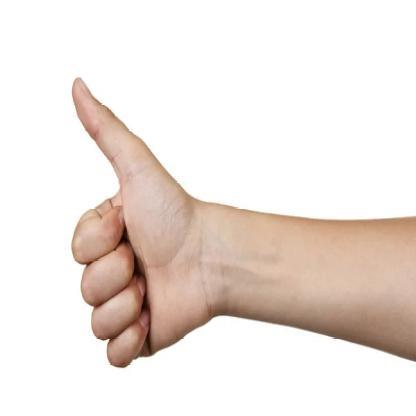thumb_up: (70, 73, 203, 369)
